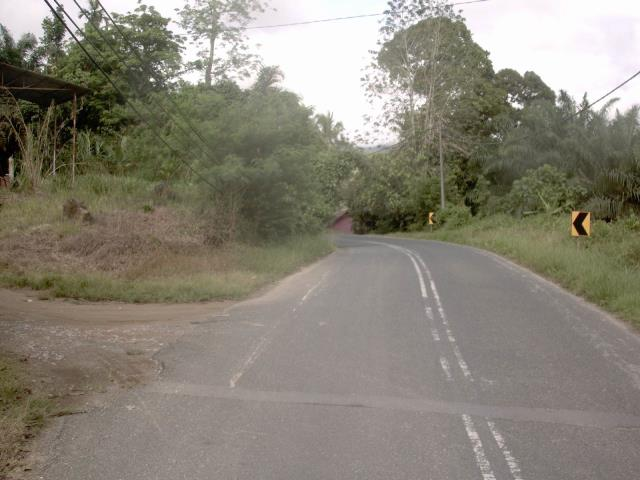traffic_sign: (564, 203, 596, 244)
